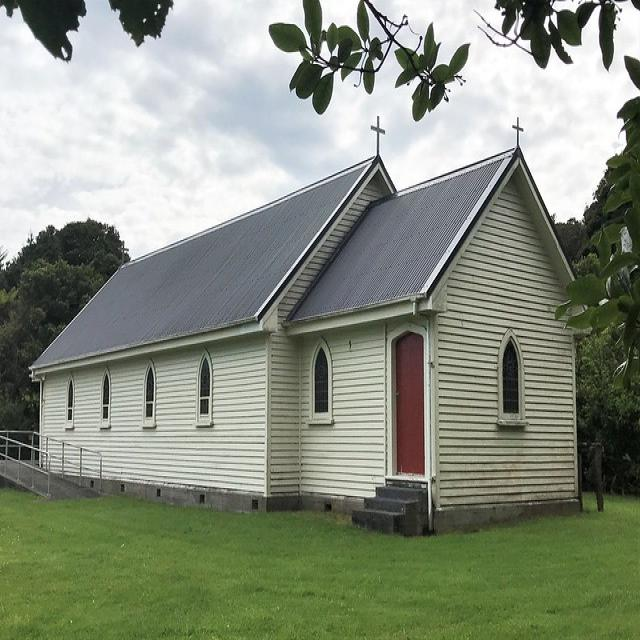Normal_building: (31, 149, 588, 538)
